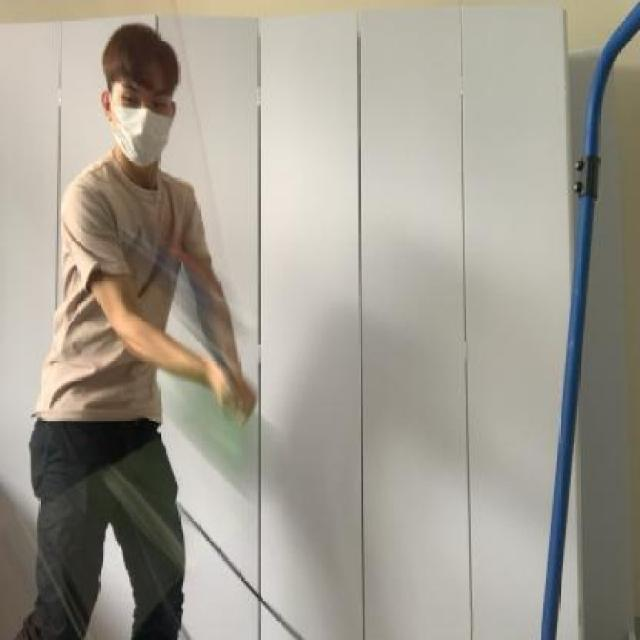baseball: (173, 379, 284, 493)
